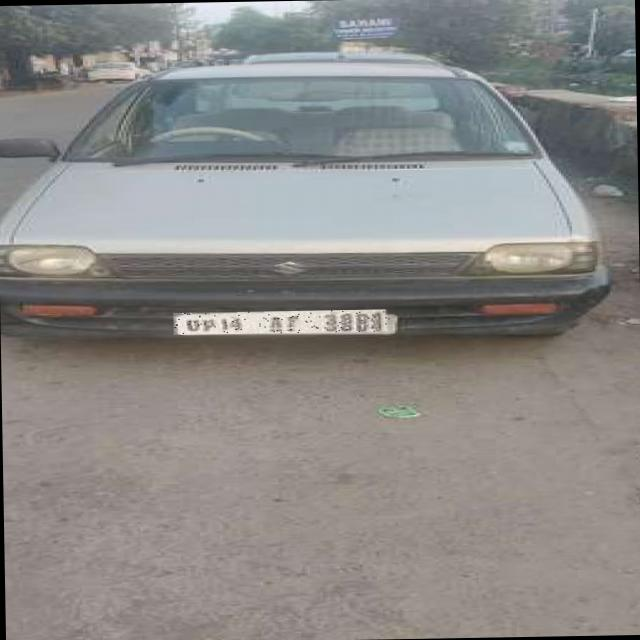Plate: (175, 310, 391, 336)
